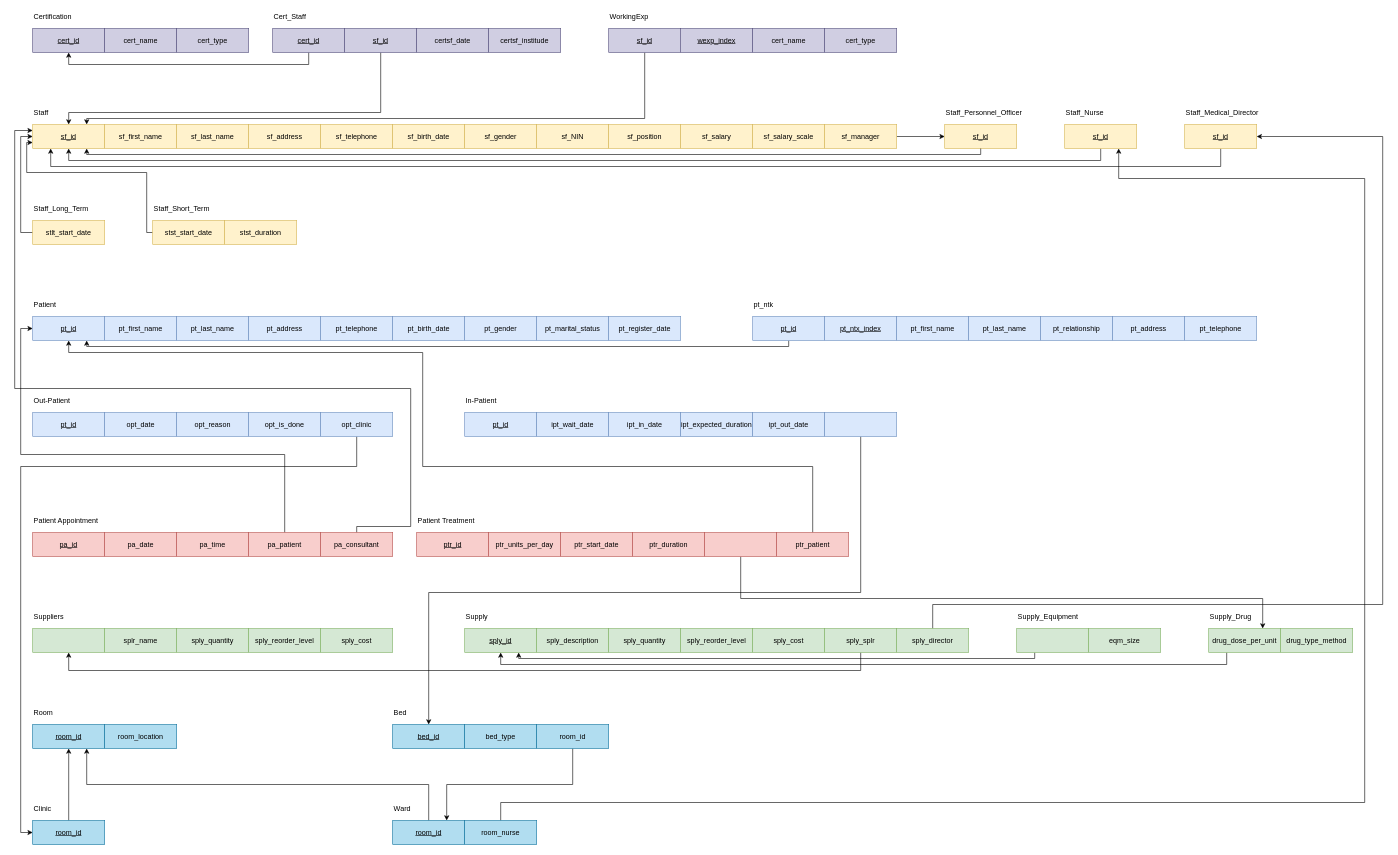
Some shapes in this 1398 by 855 pixel diagram are drawn without their labels. The shapes that lost their labels are listed below. From the top down, each one's box as (x1, y1, x2, y2) in pixels, then its label:
(824, 412, 897, 436): ipt_bed
(704, 532, 777, 556): ptr_drug
(32, 628, 105, 652): splr_id
(1016, 628, 1089, 652): eqm_type
